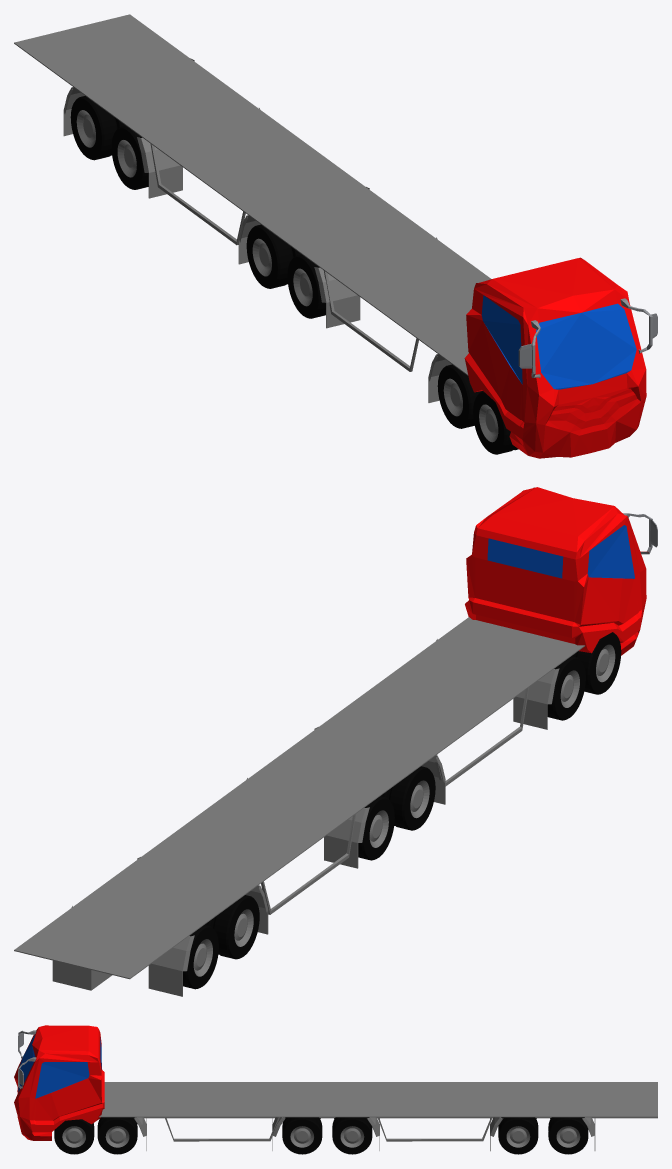
Rendered from truck2.obj.
3 views of the same model, one above another, from view 1: azimuth 30°, elevation 25°; view 2: azimuth 150°, elevation 25°; view 3: azimuth 270°, elevation 25° (orthographic). The views are drawn at different scales.
Parts seen in each view (by area): view 1: Cube.004_Cube.005, Plane, Circle.003_Circle.006; view 2: Cube.004_Cube.005, Plane, Circle.003_Circle.006; view 3: Cube.004_Cube.005, Plane, Circle.003_Circle.006.
Part boxes in pixels (left/top/right/bottom): Cube.004_Cube.005: left=14, top=14, right=491, bottom=402; Plane: left=464, top=257, right=657, bottom=458; Circle.003_Circle.006: left=70, top=96, right=518, bottom=454; Cube.004_Cube.005: left=14, top=617, right=584, bottom=996; Plane: left=465, top=487, right=657, bottom=655; Circle.003_Circle.006: left=183, top=632, right=621, bottom=989; Cube.004_Cube.005: left=99, top=1082, right=657, bottom=1151; Plane: left=14, top=1025, right=104, bottom=1140; Circle.003_Circle.006: left=54, top=1117, right=588, bottom=1154.
Size of the model in its own units: 5.83 by 6.51 by 38.23.
